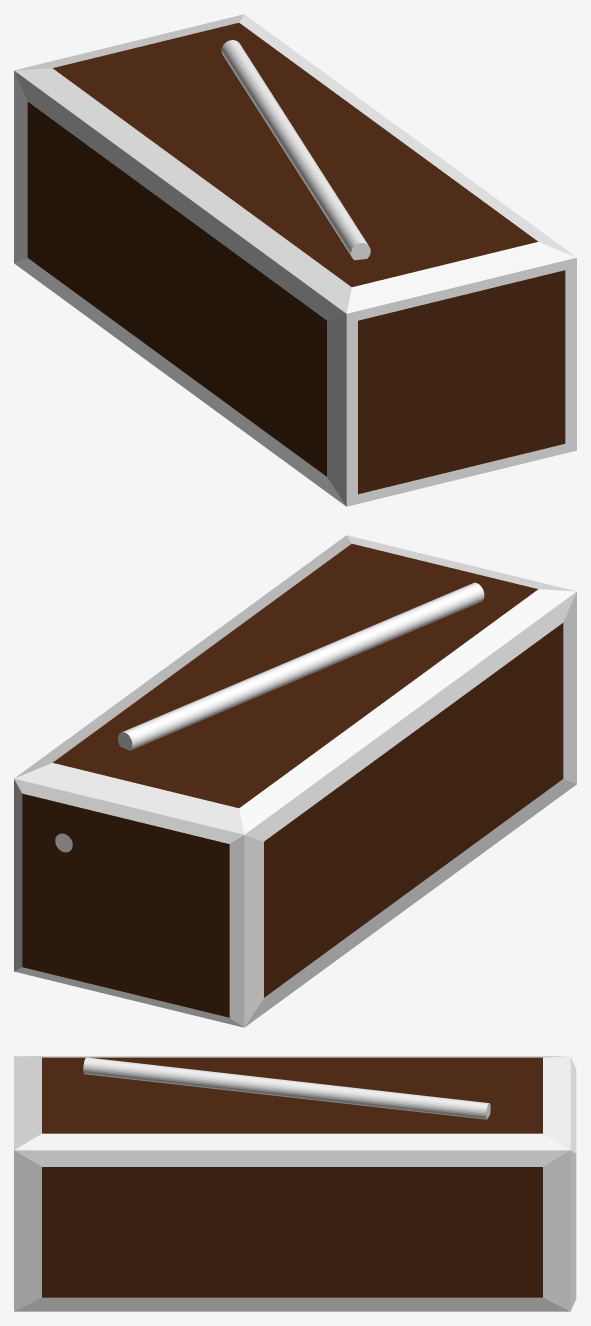
File: chomilk.fbx
3 renders of one model, top to bottom at view 1: azimuth 30°, elevation 25°; view 2: azimuth 150°, elevation 25°; view 3: azimuth 270°, elevation 25°, orthographic. The views are drawn at different scales.
Visible parts, largest first — view 1: chomilk; view 2: chomilk; view 3: chomilk.
Boxes of the visible parts, x1=… form: chomilk: x1=14, y1=14, x2=576, y2=506; chomilk: x1=14, y1=535, x2=576, y2=1027; chomilk: x1=14, y1=1056, x2=576, y2=1311.
Size of the model in its own units: 820 by 755 by 2023.
